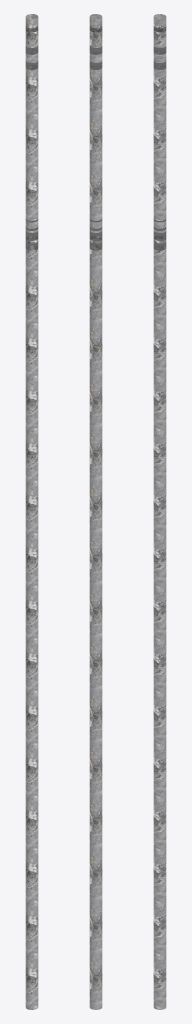
The model's file is tunnel_H2_2.glb.
3 views of the same model, side by side, from view 1: azimuth 30°, elevation 25°; view 2: azimuth 150°, elevation 25°; view 3: azimuth 330°, elevation 25° (orthographic).
Visible parts, largest first — view 1: XSBYSZK_02 (×2); view 2: XSBYSZK_02 (×2); view 3: XSBYSZK_02 (×2).
Boxes of the visible parts, x1,y1,x2,y2 form: XSBYSZK_02 (×2): [25, 14, 38, 1009]; XSBYSZK_02 (×2): [89, 14, 102, 1009]; XSBYSZK_02 (×2): [153, 14, 166, 1009].
Bounding box in the file's own units: 4.29 × 379 × 4.1.
2 materials, 1 textured.
